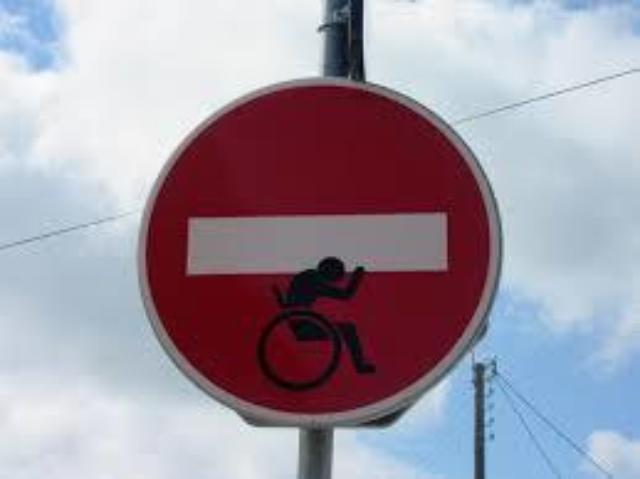B2: (132, 72, 506, 430)
